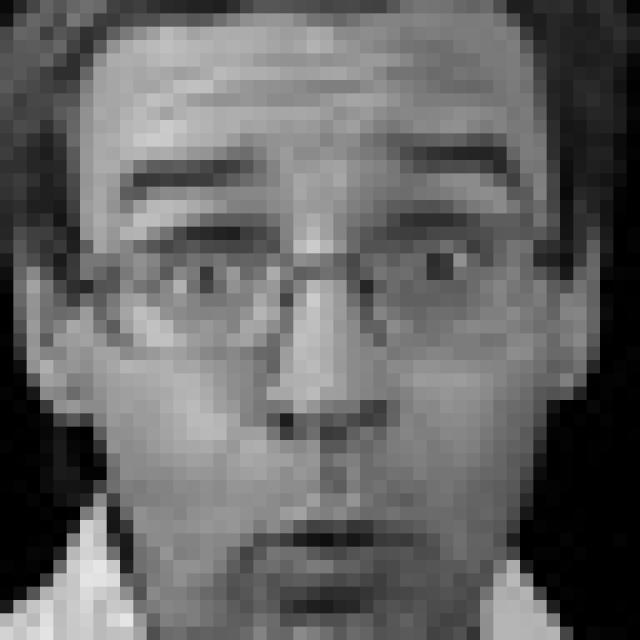surprise: (117, 113, 530, 614)
